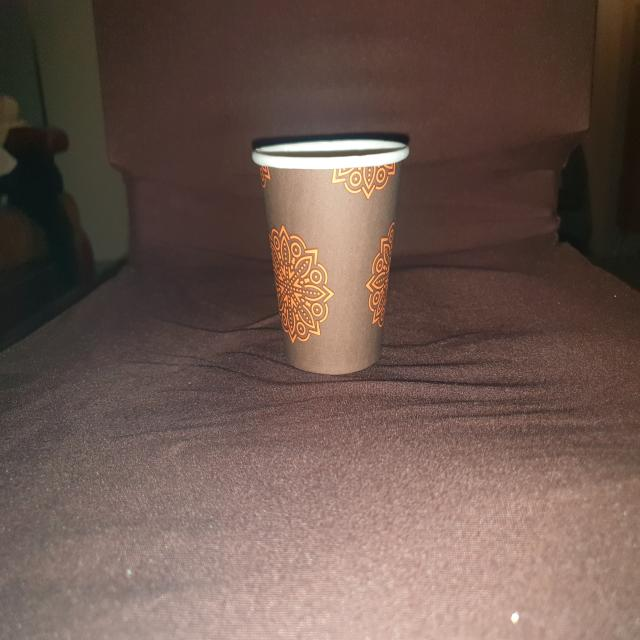cup: (250, 138, 410, 378)
